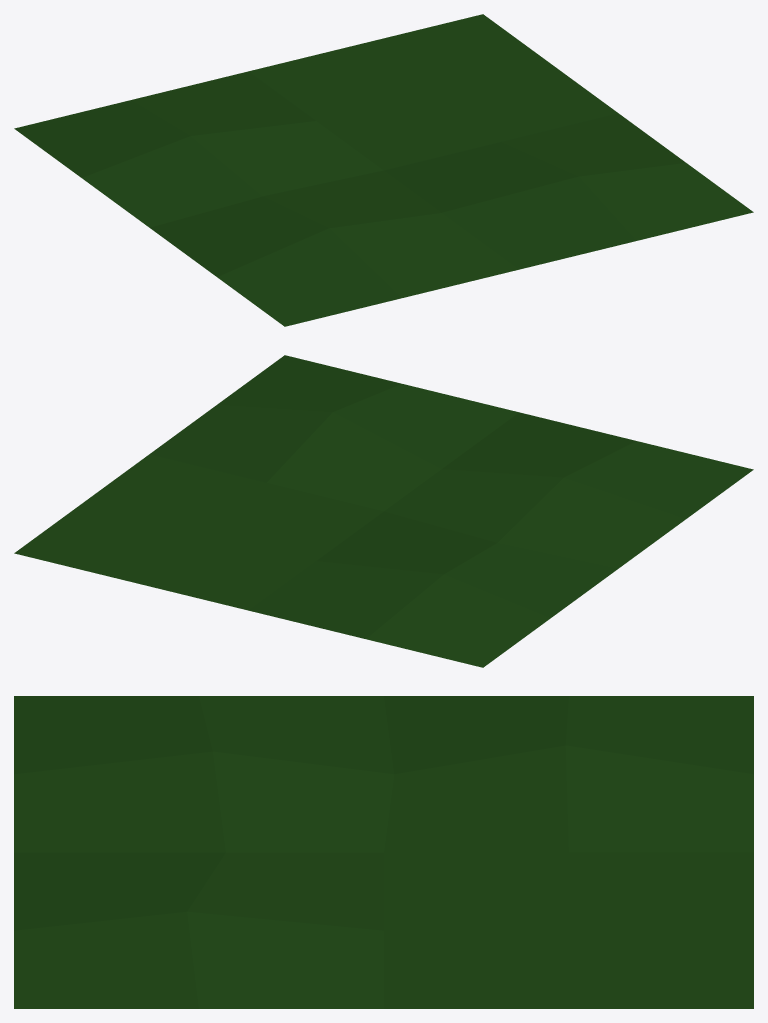
The model's file is SM_grass_ground_02.fbx.
3 renders of one model, top to bottom at view 1: azimuth 30°, elevation 25°; view 2: azimuth 150°, elevation 25°; view 3: azimuth 270°, elevation 25°, orthographic. The views are drawn at different scales.
Visible parts, largest first — view 1: grass_ground_02; view 2: grass_ground_02; view 3: grass_ground_02.
Part boxes in pixels (x1=…): grass_ground_02: x1=14, y1=14, x2=753, y2=326; grass_ground_02: x1=14, y1=355, x2=753, y2=667; grass_ground_02: x1=14, y1=696, x2=753, y2=1008.
Size of the model in its own units: 300 by 10.18 by 300.
